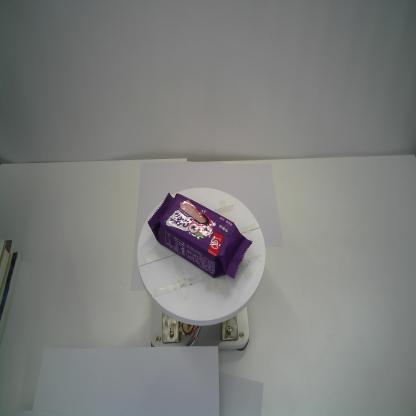Dessert: (146, 189, 255, 283)
